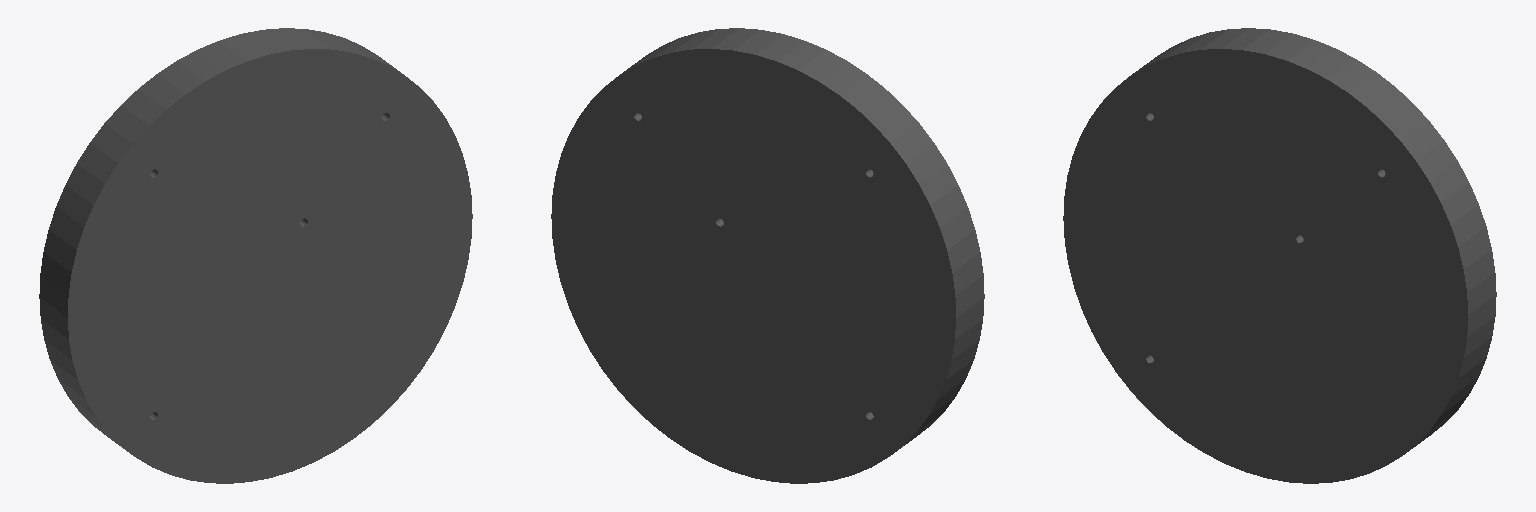
The model's file is ellip1.obj.
3 renders of one model, left to right at view 1: azimuth 30°, elevation 25°; view 2: azimuth 150°, elevation 25°; view 3: azimuth 330°, elevation 25°, orthographic.
Parts seen in each view (by area): view 1: StainlessSteel_ellip1; view 2: StainlessSteel_ellip1; view 3: StainlessSteel_ellip1.
Part boxes in pixels (x1,y1,x2,y2): StainlessSteel_ellip1: (39, 28, 472, 483); StainlessSteel_ellip1: (551, 28, 984, 483); StainlessSteel_ellip1: (1063, 28, 1496, 483).
Bounding box in the file's own units: 0.1049 × 0.1049 × 0.0127.